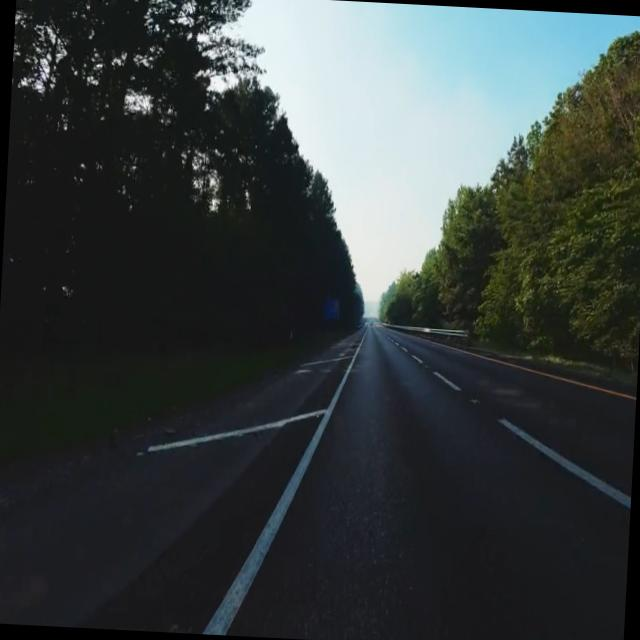asphalt: (0, 323, 636, 640)
